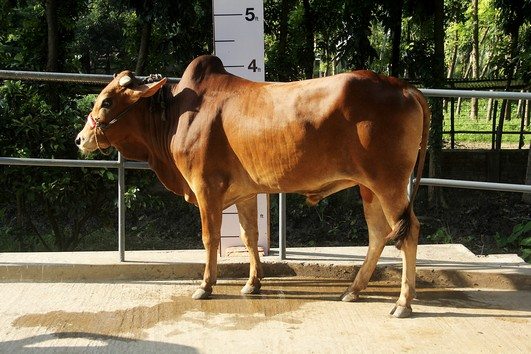cow: (69, 48, 429, 319)
